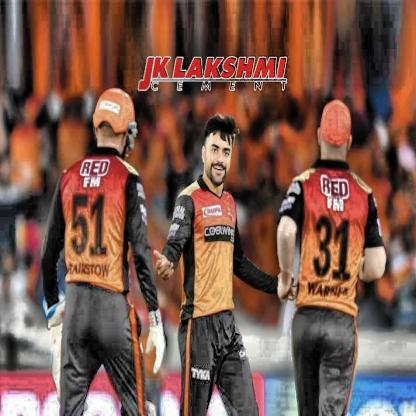JK lakshmi cement: (139, 55, 290, 94)
